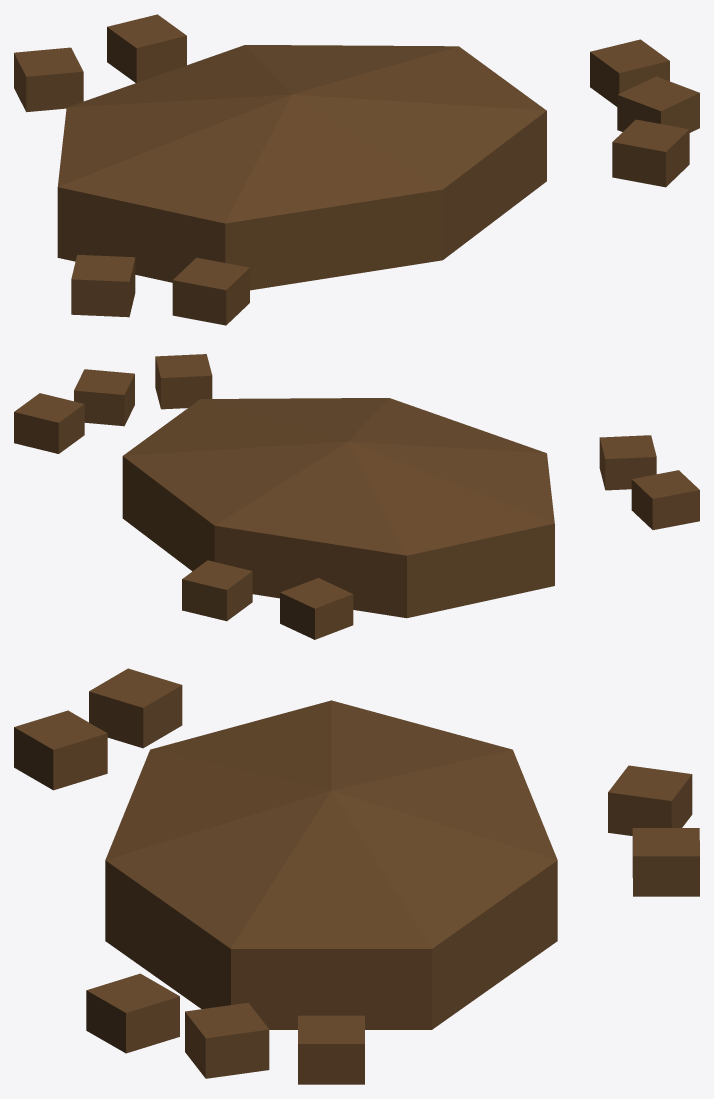
Rendered from dirt_pile.glb.
The picture shows the model from 3 angles, top to bottom: view 1: azimuth 30°, elevation 25°; view 2: azimuth 150°, elevation 25°; view 3: azimuth 270°, elevation 25°; orthographic projection. The views are drawn at different scales.
Visible parts, largest first — view 1: pile_dirt, crumbs_dirt; view 2: pile_dirt, crumbs_dirt; view 3: pile_dirt, crumbs_dirt.
Boxes of the visible parts, x1,y1,x2,y2 form: pile_dirt: [57, 45, 546, 290]; crumbs_dirt: [14, 14, 699, 325]; pile_dirt: [122, 398, 554, 618]; crumbs_dirt: [14, 354, 699, 639]; pile_dirt: [105, 700, 557, 1029]; crumbs_dirt: [14, 668, 699, 1084].
Bounding box in the file's own units: 0.3982 × 0.08 × 0.3073.
